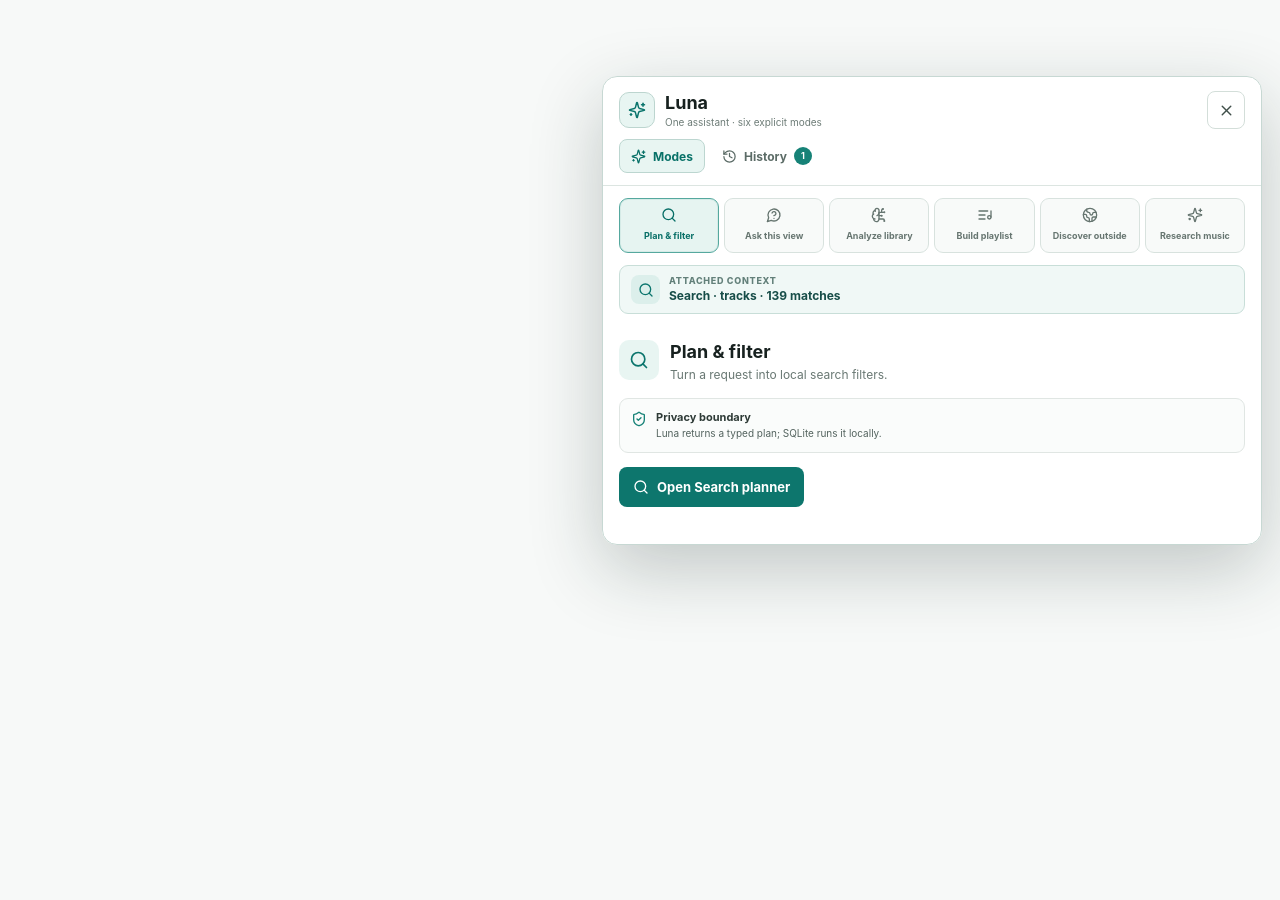
Test: LunaPanel › deletes an item from the shared local timeline
Click the tab "History 1" at (767, 156), box [710, 139, 824, 173]
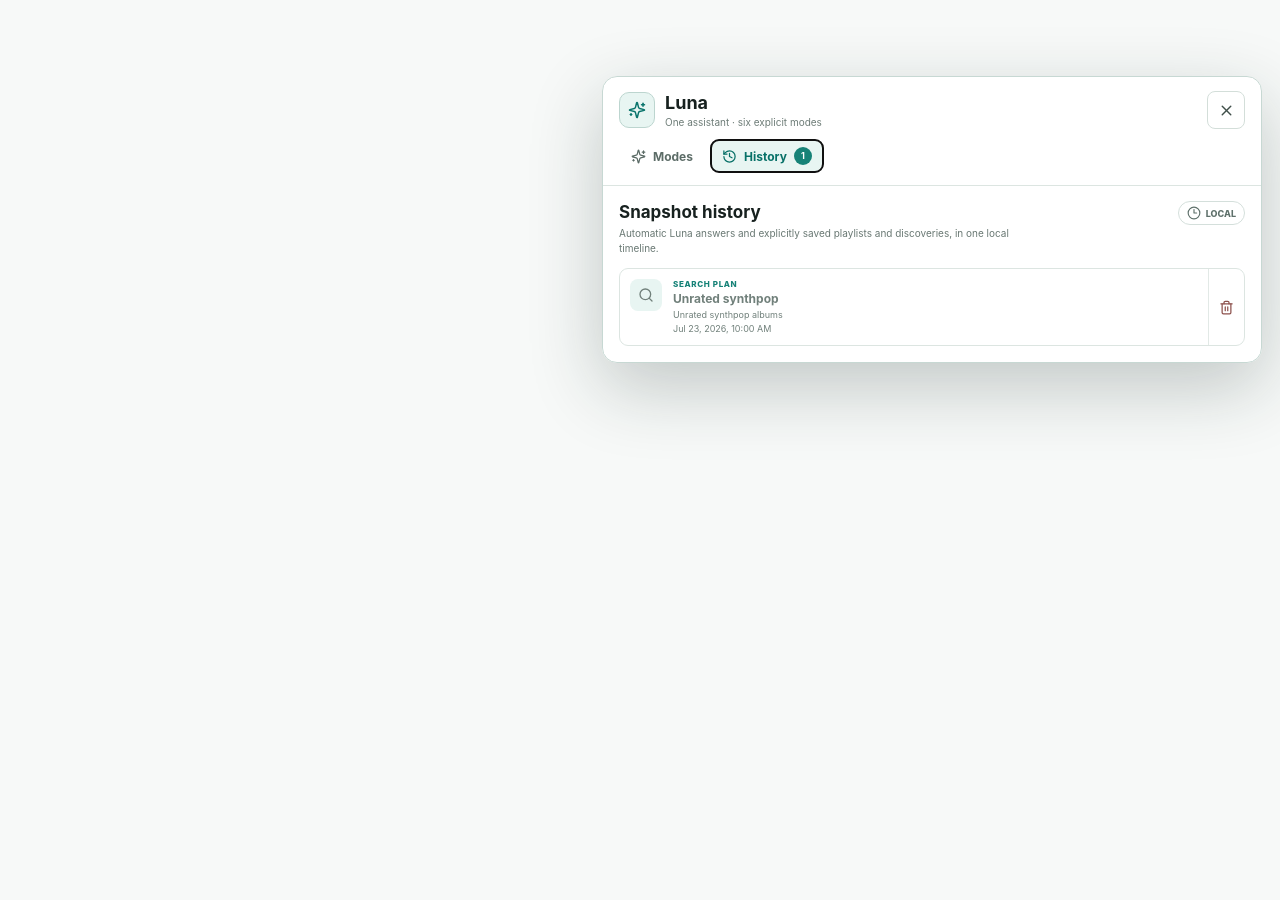
expect the text "Unrated synthpop" is shown: met, box [673, 291, 779, 306]
Click the button named "Delete Unrated synthpop" at (1226, 307), box [1208, 269, 1244, 345]
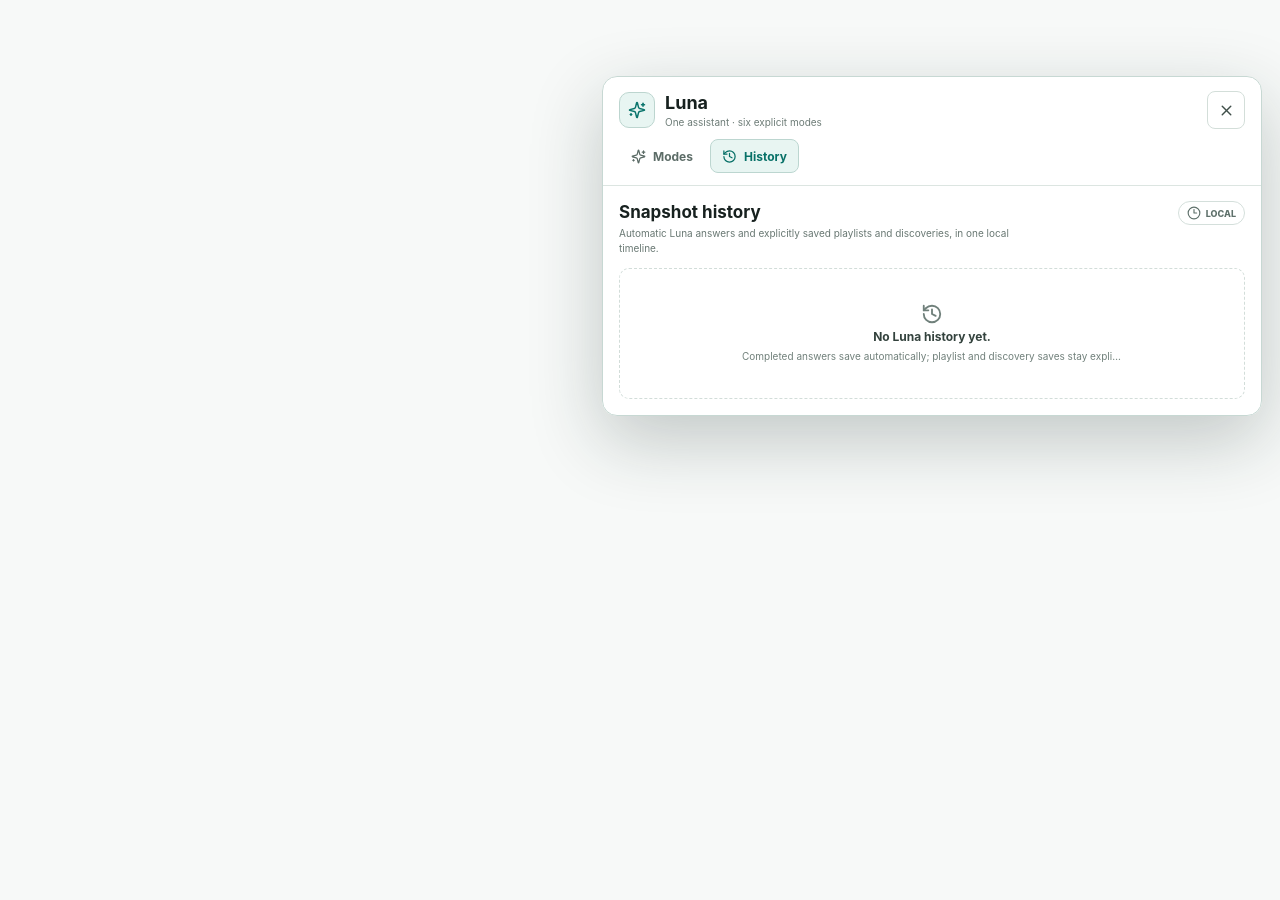
expect the button "Unrated synthpop" is gone: met
